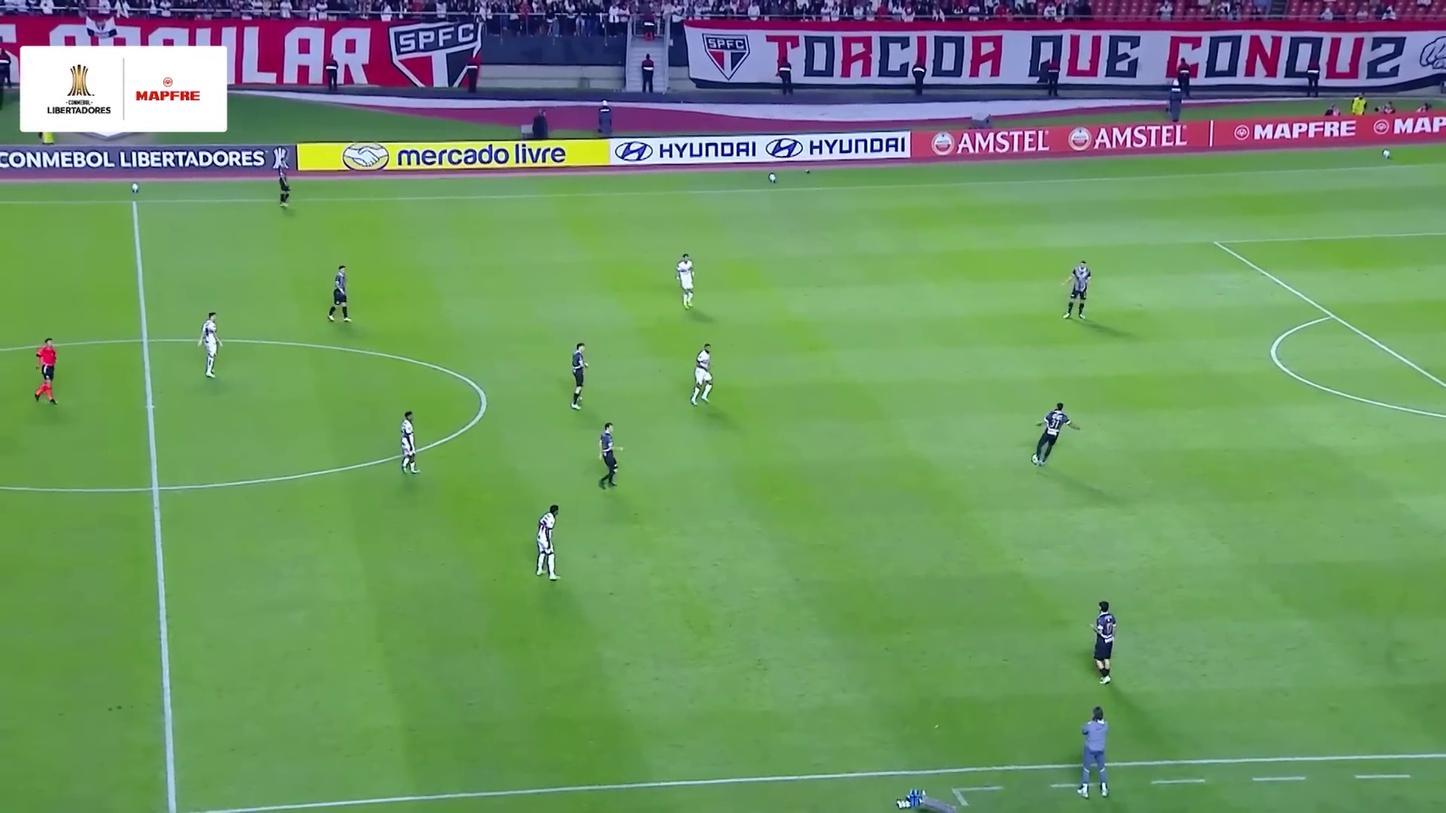ball: (1031, 453, 1038, 465)
player: (1027, 401, 1081, 469), (1084, 599, 1123, 687), (531, 502, 564, 583), (594, 421, 627, 494), (1060, 259, 1094, 324), (195, 310, 225, 380), (687, 342, 717, 408), (565, 341, 592, 413), (324, 264, 355, 326), (395, 410, 423, 478), (673, 252, 699, 310), (274, 164, 296, 213)
referee: (29, 337, 63, 409)
